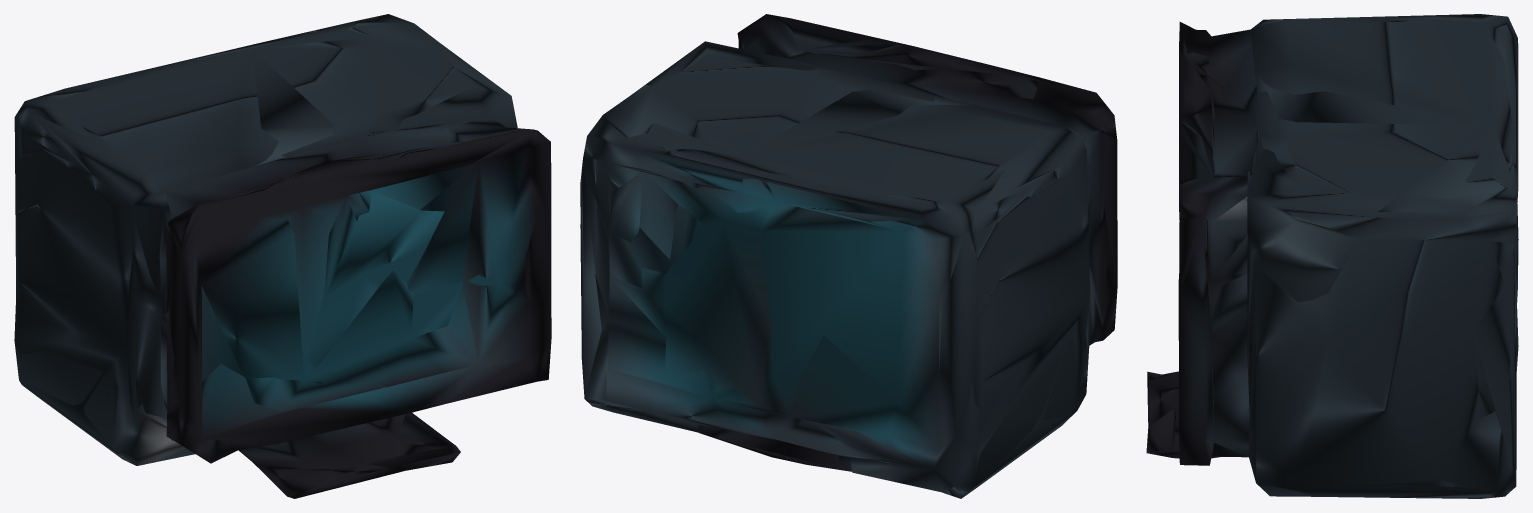
Rendered from gen3d-television-lod0.glb.
3 views of the same model, side by side, from view 1: azimuth 30°, elevation 25°; view 2: azimuth 150°, elevation 25°; view 3: azimuth 270°, elevation 25° (orthographic). The views are drawn at different scales.
Visible parts, largest first — view 1: part_0; view 2: part_0; view 3: part_0.
Part boxes in pixels (x1,y1,x2,y2): part_0: (14,14,551,498); part_0: (580,14,1117,498); part_0: (1146,14,1518,498).
Bounding box in the file's own units: 1.37 × 0.9987 × 1.07.
